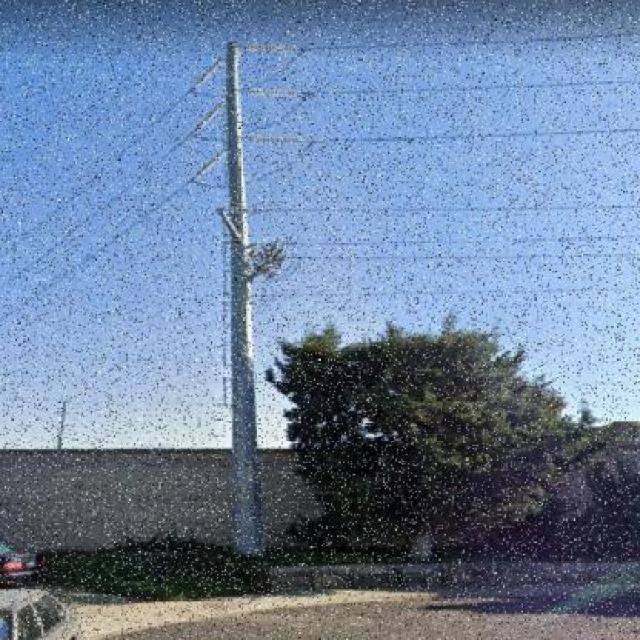pole: (144, 22, 328, 572)
